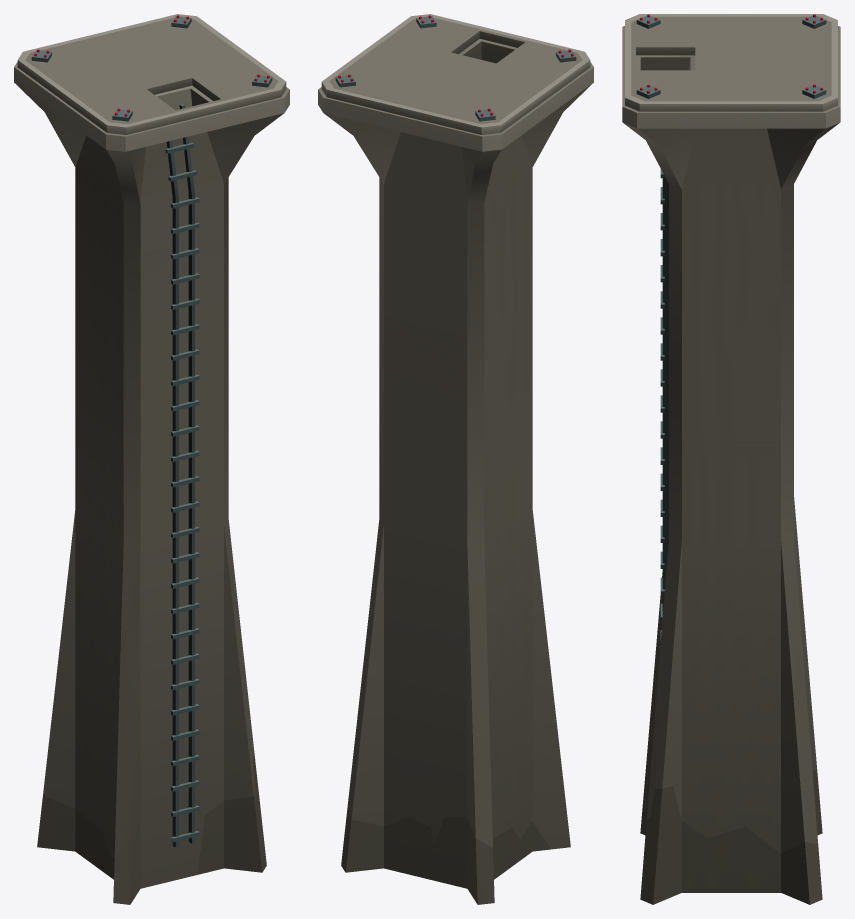
File: Concrete_Tower_1A.fbx
3 renders of one model, left to right at view 1: azimuth 30°, elevation 25°; view 2: azimuth 150°, elevation 25°; view 3: azimuth 270°, elevation 25°, orthographic. The views are drawn at different scales.
Visible parts, largest first — view 1: Concrete_Tower_1A; view 2: Concrete_Tower_1A; view 3: Concrete_Tower_1A.
Boxes of the visible parts, bbox=[...] form: Concrete_Tower_1A: bbox=[14, 14, 289, 904]; Concrete_Tower_1A: bbox=[318, 14, 593, 904]; Concrete_Tower_1A: bbox=[622, 14, 840, 904].
Size of the model in its own units: 760 by 3123 by 760.
